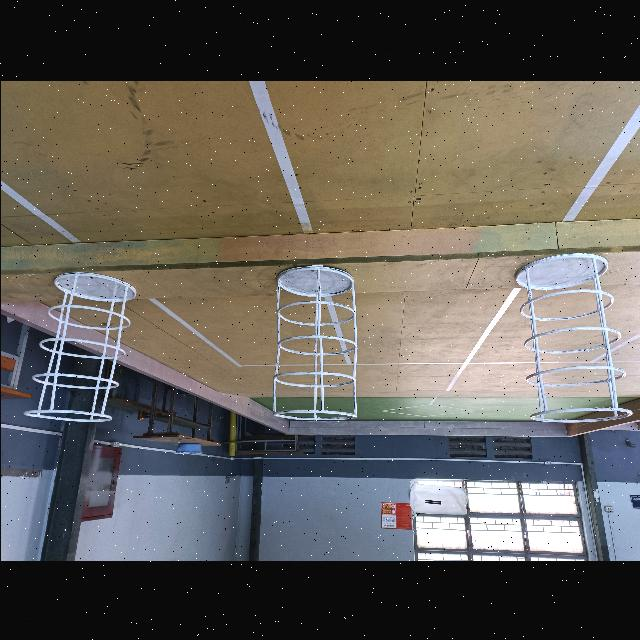S: (515, 251, 631, 422), (22, 272, 136, 421), (272, 266, 356, 420)
